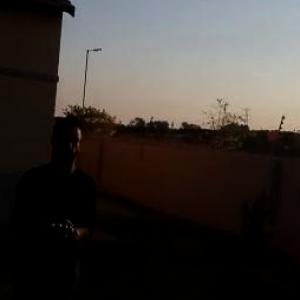follow: (4, 112, 99, 299)
